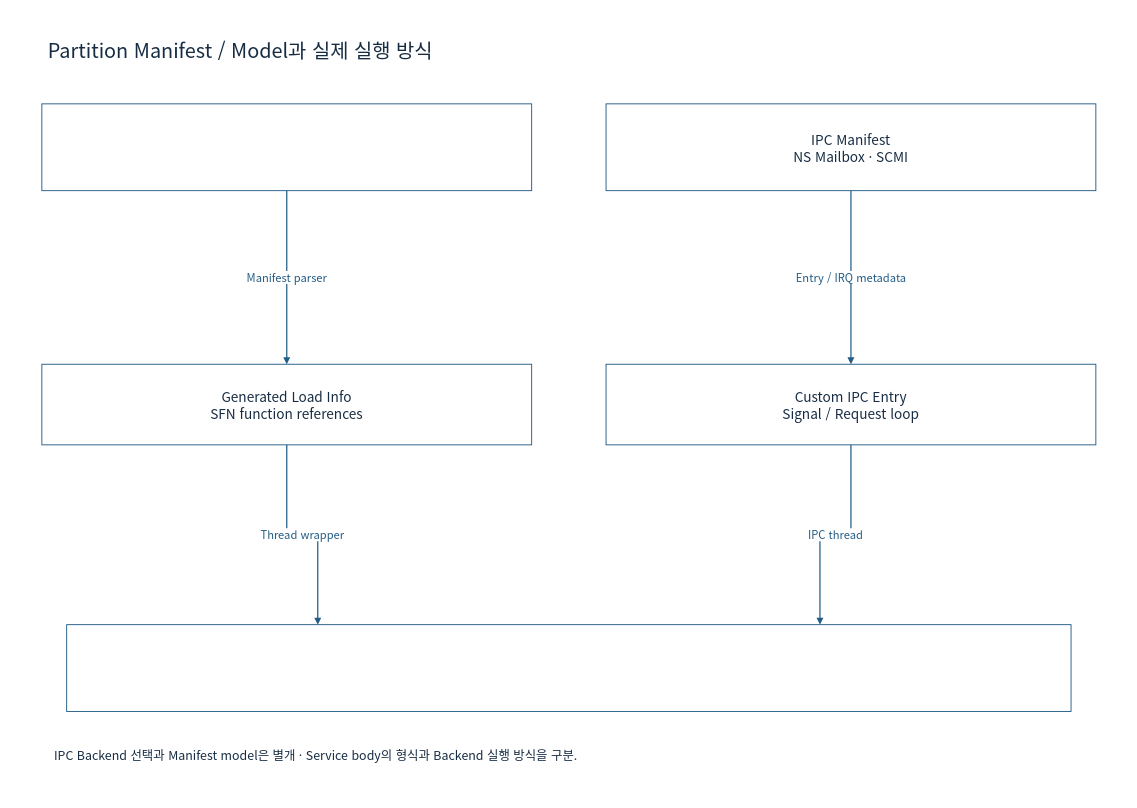
Image size: 1137x808. Some labels were removed from this diagram. Each missing label, with the centre of its shape:
IPC Backend common_sfn_thread 또는 custom entry · Partition stack · Scheduler: the point at 568,668
SFN Manifest Crypto · PS · ITS · IA · FWU · Platform · MB: the point at 286,147
